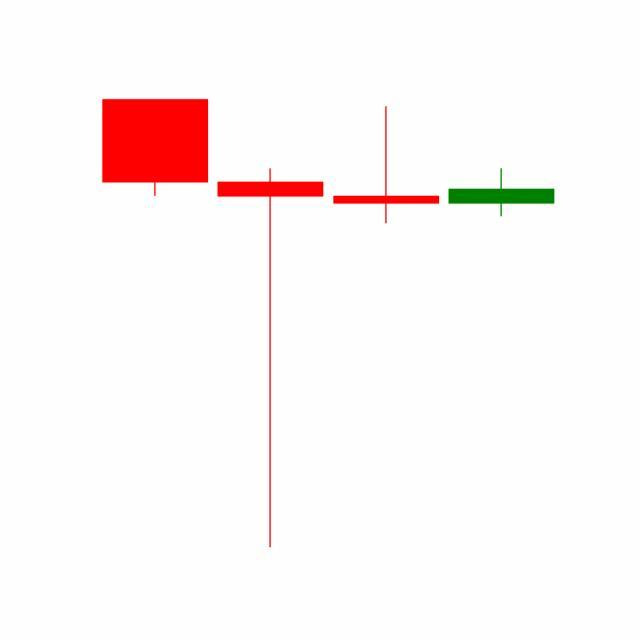Spinning Top: (444, 167, 560, 218)
